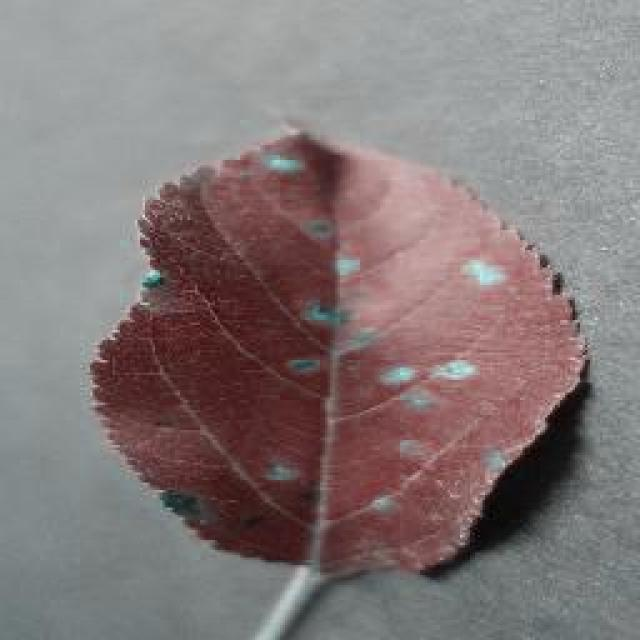apple scab disease: (85, 122, 590, 580)
